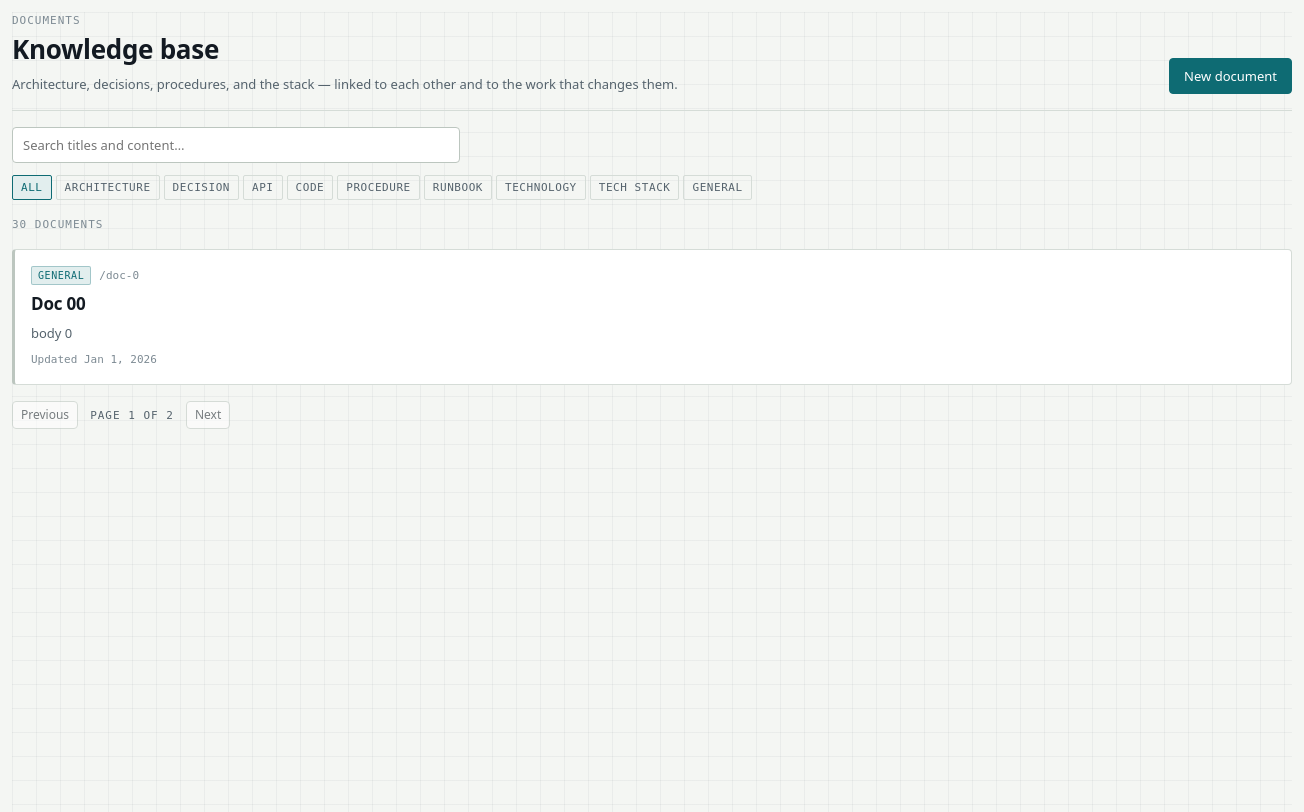
Scenario: DocumentListPage paging › filtering by a type with no matches › says the filter is empty, not the workspace
The width and height of the screenshot is (1304, 812).
Expected: the heading "Doc 00" is shown, [31,292,86,315]
Click the button "Code": (310, 187) [286,175,333,200]
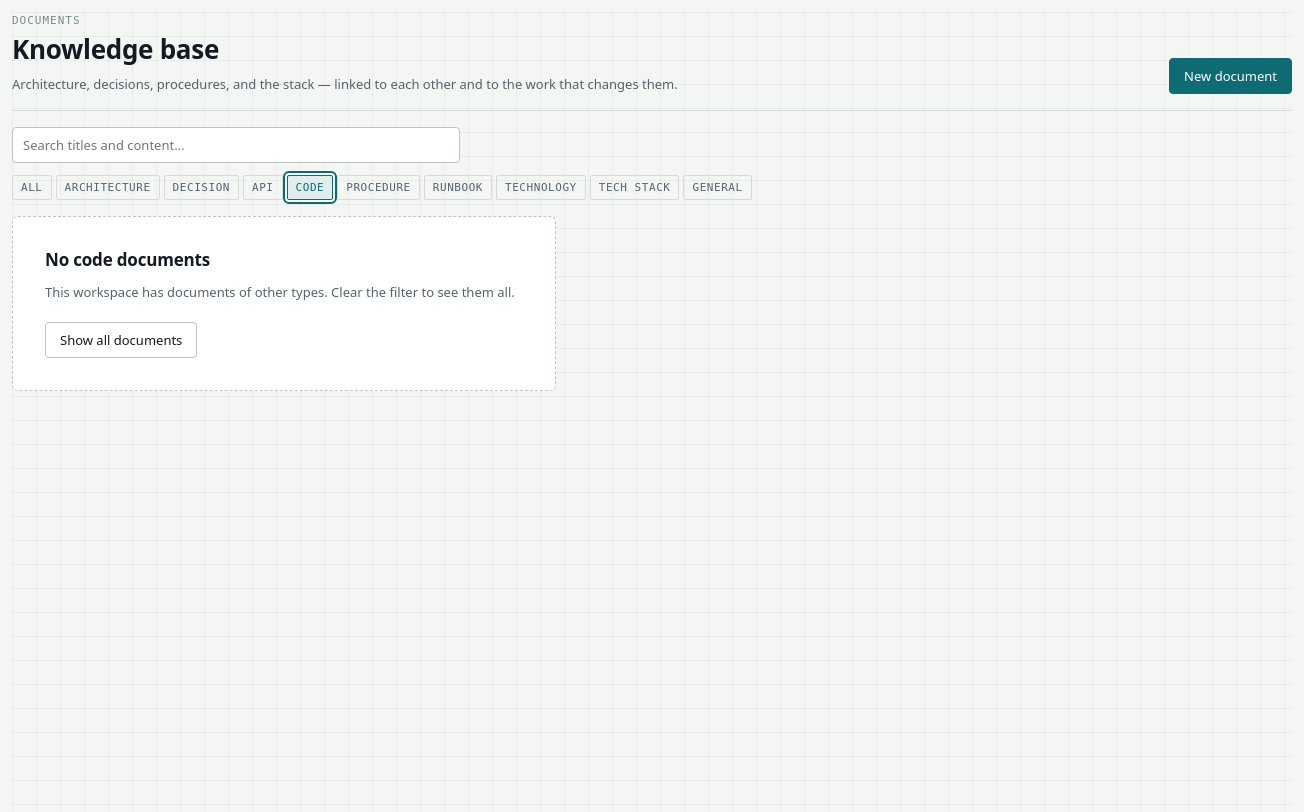
Expected: the heading "No code documents" is shown, [45,249,210,270]
